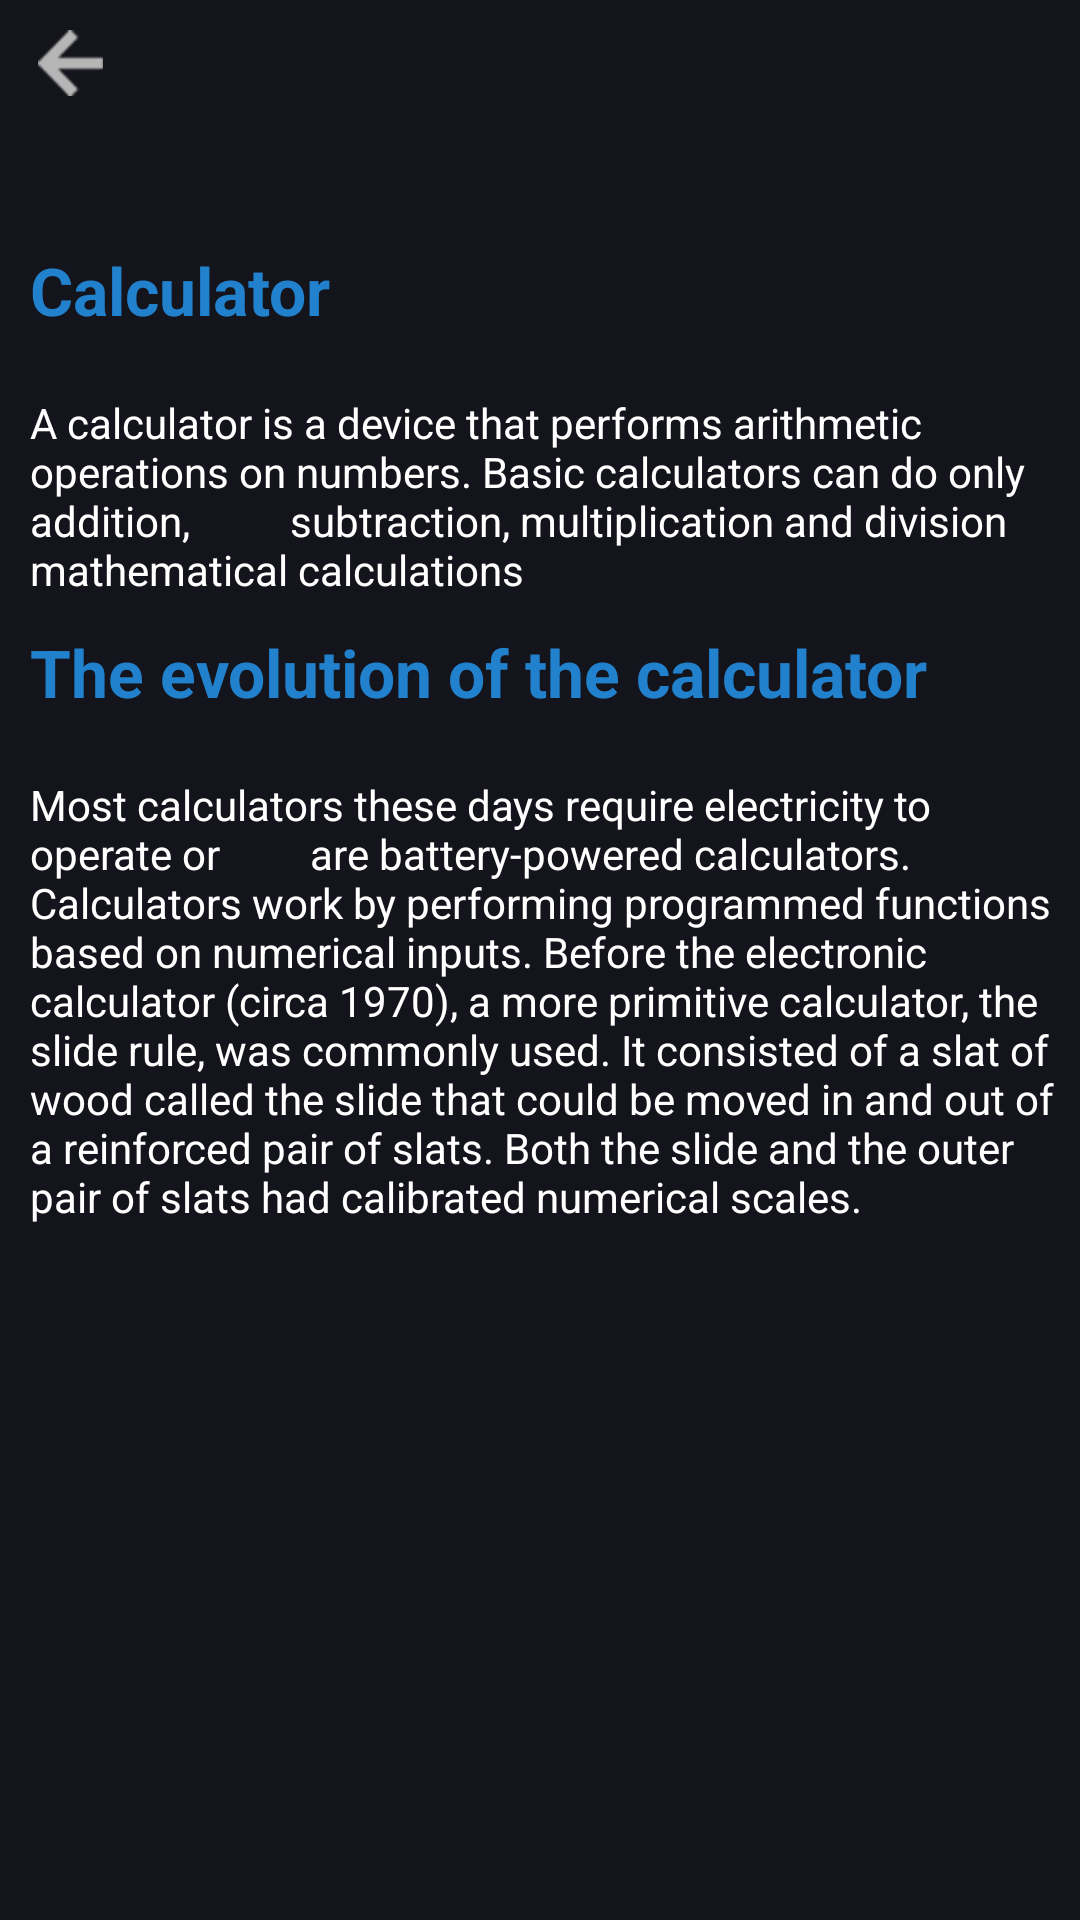

Screen size 1080w x 1920h. Icon name, then its box in pixels as bbox=[x1, y1, x2, y2]:
arrow: bbox=[38, 30, 103, 96]
